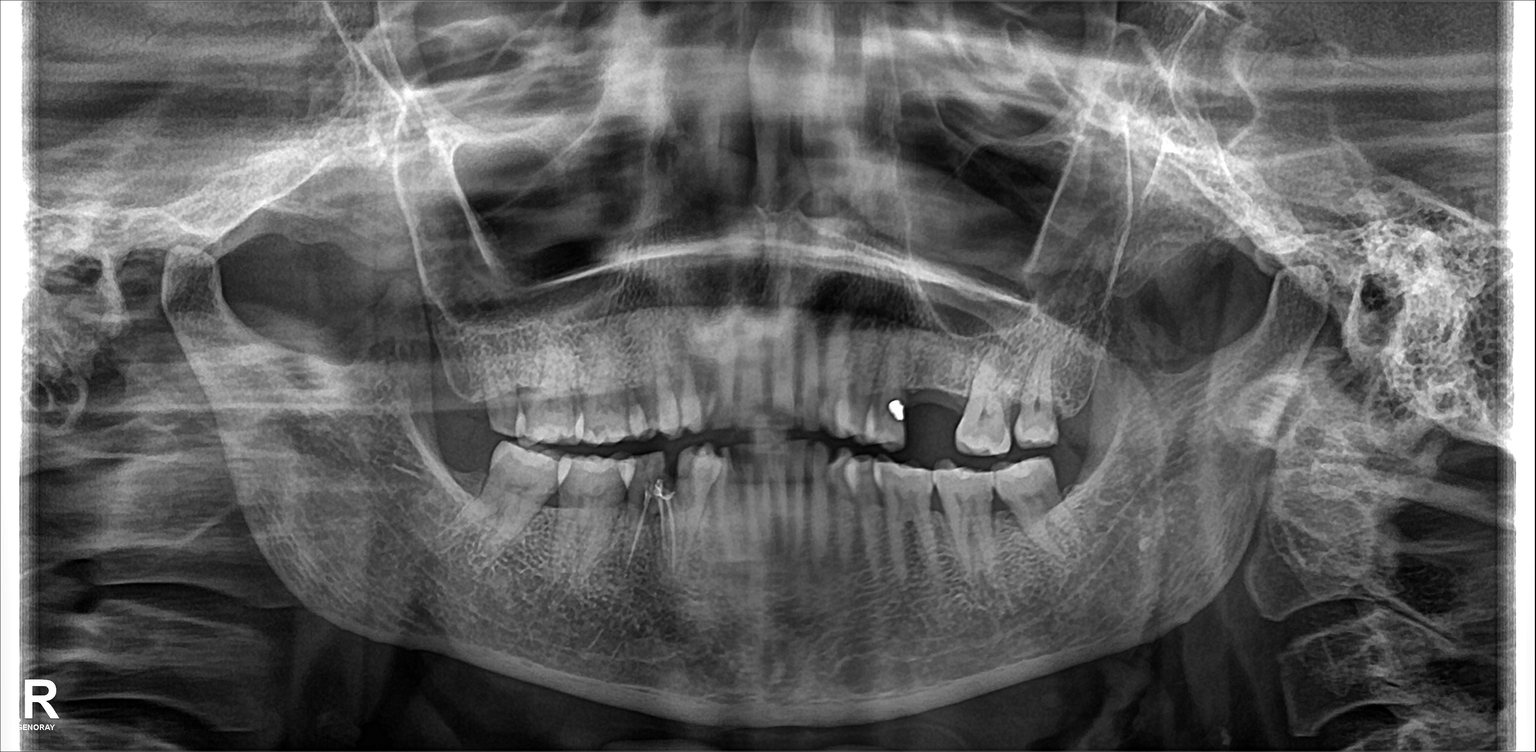Dental Caries: (633, 460, 676, 499)
Endodontically Treated Tooth: (624, 462, 676, 579)
Missing Tooth: (421, 428, 484, 524), (1060, 339, 1113, 435), (1054, 458, 1111, 529), (916, 363, 955, 454), (432, 342, 481, 410)
